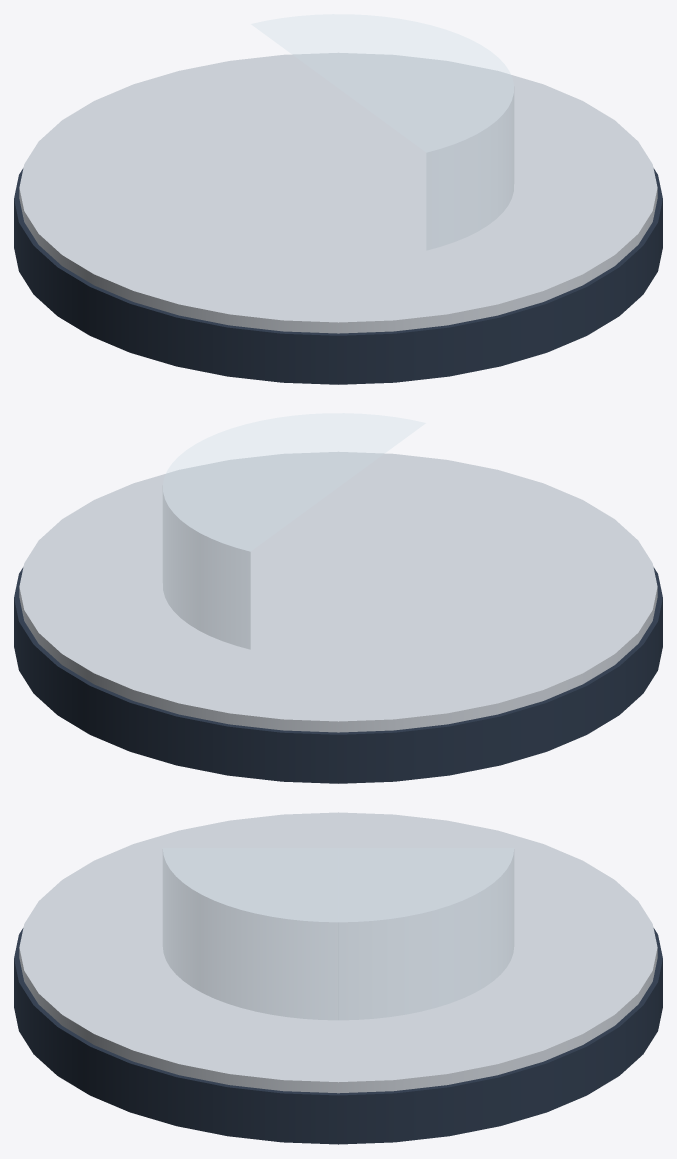
File: goniometer_prism.glb
The picture shows the model from 3 angles, top to bottom: view 1: azimuth 30°, elevation 25°; view 2: azimuth 150°, elevation 25°; view 3: azimuth 270°, elevation 25°; orthographic projection.
Parts seen in each view (by area): view 1: Rotary_Goniometer_Prism_Stage, Semicircular_Crown_Glass_Prism; view 2: Rotary_Goniometer_Prism_Stage, Semicircular_Crown_Glass_Prism; view 3: Rotary_Goniometer_Prism_Stage, Semicircular_Crown_Glass_Prism.
Part boxes in pixels (bbox=[...]): Rotary_Goniometer_Prism_Stage: bbox=[14, 52, 662, 384]; Semicircular_Crown_Glass_Prism: bbox=[251, 14, 513, 249]; Rotary_Goniometer_Prism_Stage: bbox=[14, 451, 662, 783]; Semicircular_Crown_Glass_Prism: bbox=[163, 413, 425, 648]; Rotary_Goniometer_Prism_Stage: bbox=[14, 812, 662, 1144]; Semicircular_Crown_Glass_Prism: bbox=[163, 848, 513, 1019].
Size of the model in its own units: 0.24 by 0.065 by 0.24.
